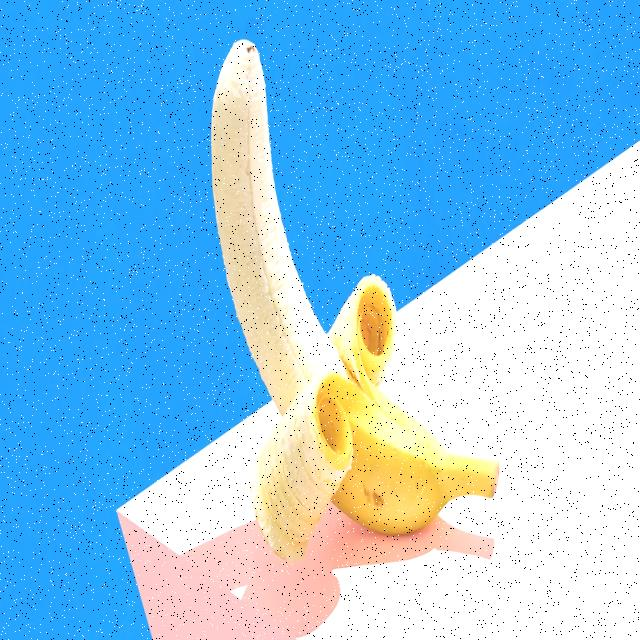Banana: (184, 29, 504, 568)
